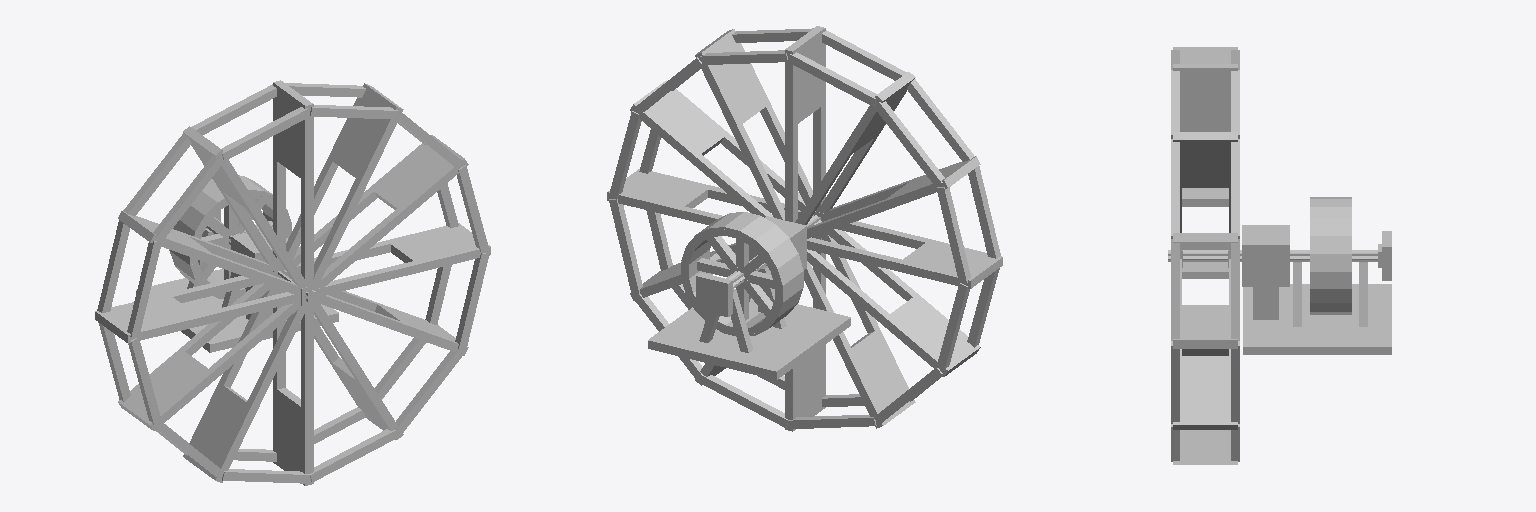
The model's file is waterwheel_generator.obj.
The picture shows the model from 3 angles: view 1: azimuth 30°, elevation 25°; view 2: azimuth 150°, elevation 25°; view 3: azimuth 270°, elevation 25°; orthographic projection.
Visible parts, largest first — view 1: wheel, base; view 2: wheel, base; view 3: wheel, base.
Part boxes in pixels (left/top/right/bottom): wheel: left=95, top=80, right=490, bottom=485; base: left=136, top=227, right=338, bottom=352; wheel: left=607, top=26, right=1002, bottom=431; base: left=648, top=216, right=850, bottom=379; wheel: left=1168, top=47, right=1391, bottom=464; base: left=1242, top=225, right=1391, bottom=354.
Size of the model in its own units: 2.81 by 2.81 by 1.5.